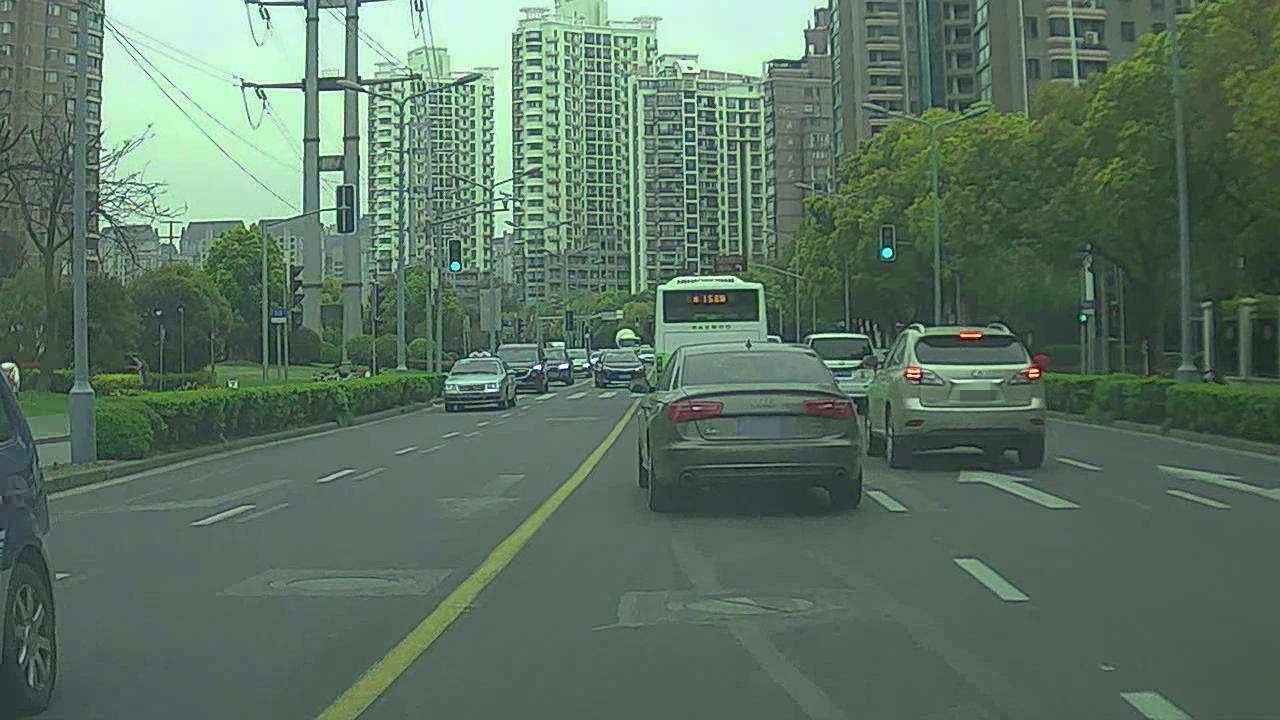traffic_light: (880, 226, 895, 264), (451, 239, 464, 274)
